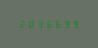nine: (62, 20, 70, 28), (71, 20, 79, 28)
six: (44, 20, 52, 28), (53, 20, 61, 28)
three: (35, 20, 43, 28)
two: (17, 20, 25, 28)
zero: (26, 20, 34, 28)
